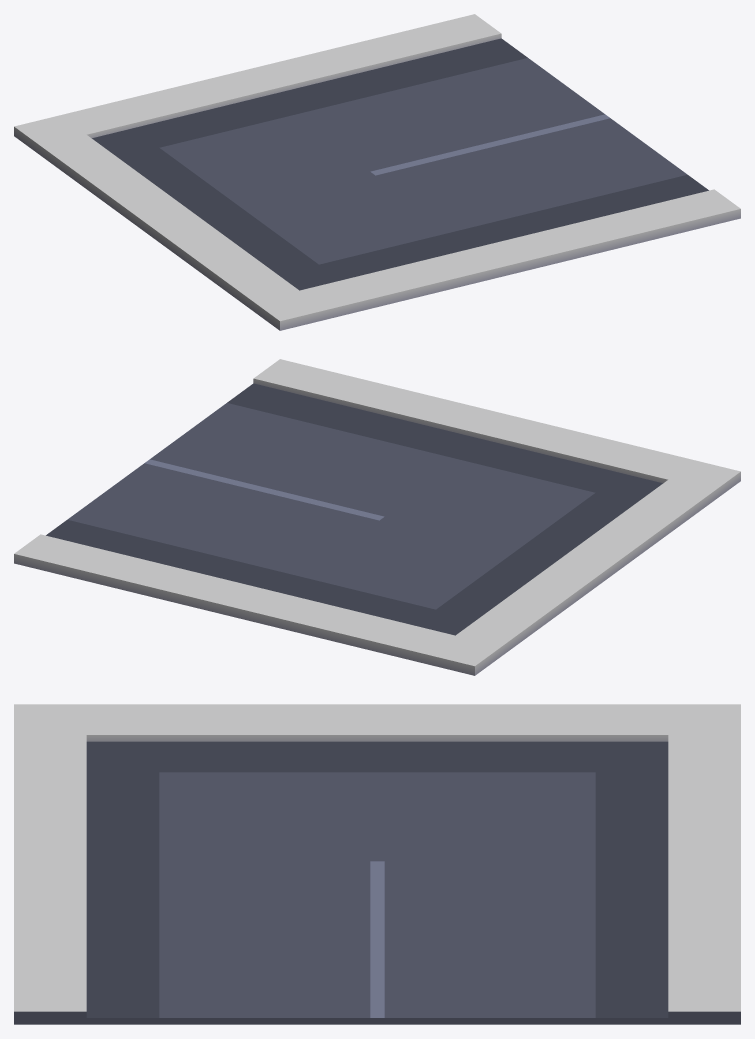
Rendered from road-end.glb.
The picture shows the model from 3 angles, top to bottom: view 1: azimuth 30°, elevation 25°; view 2: azimuth 150°, elevation 25°; view 3: azimuth 270°, elevation 25°; orthographic projection. The views are drawn at different scales.
Visible parts, largest first — view 1: road-end; view 2: road-end; view 3: road-end.
Part boxes in pixels (x1,y1,x2,y2): road-end: (14,14,740,330); road-end: (14,359,740,675); road-end: (14,704,740,1024).
Size of the model in its own units: 1 by 0.02 by 1.
